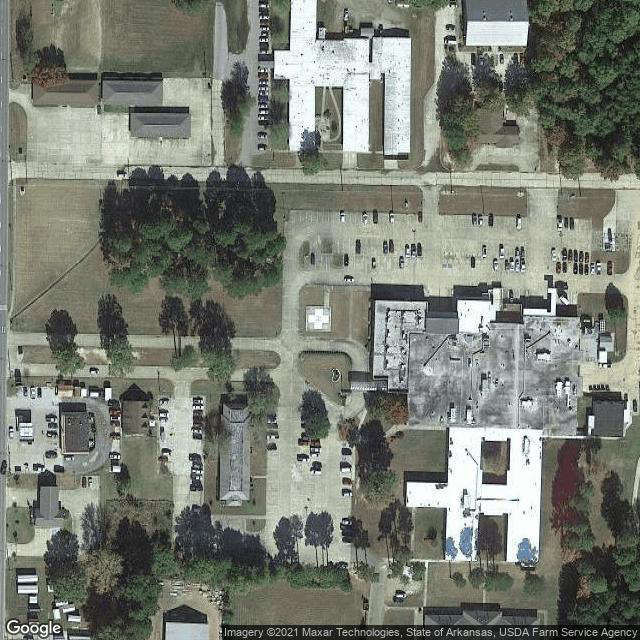Helipad: (302, 301, 333, 334)
